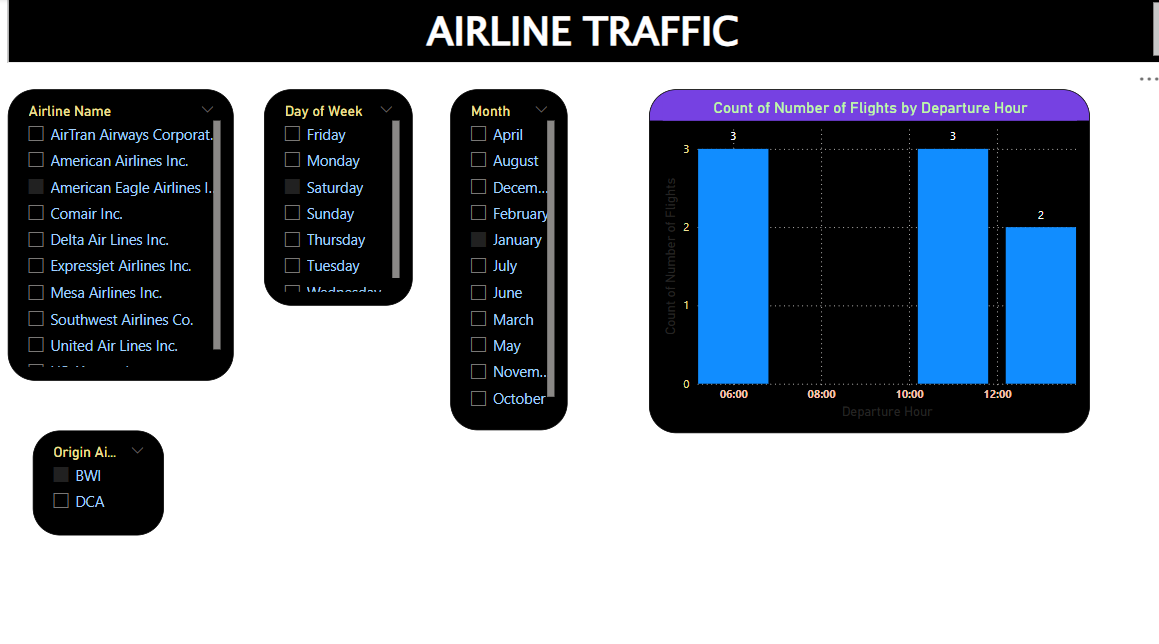

The dashboard page shown, as its layout file describes it:
{"tool":"powerbi","page":{"name":"Page 2","canvas":[1280,720],"ordinal":1},"visuals":[{"type":"textbox","box":[9.6,0,1270.7,71.4],"z":0},{"type":"slicer","fields":{"Values":["Sheet1.Airline Name"]},"box":[9.6,100.2,248.4,319.7],"z":1},{"type":"slicer","fields":{"Values":["Sheet1.Origin Airport"]},"box":[37,474.8,144.1,115.3],"z":2},{"type":"slicer","fields":{"Values":["Sheet1.Day of Week"]},"box":[290.9,100.2,163.3,237.4],"z":3},{"type":"slicer","fields":{"Values":["Sheet1.Month"]},"box":[495.4,100.2,129,374.6],"z":4},{"type":"columnChart","fields":{"Category":["Sheet1.Departure Hour"],"Y":["CountNonNull(Sheet1.Number of Flights)"]},"box":[713.6,100.2,484.4,377.4],"z":5}]}

Visuals, with their boxes in screenshot pixels (x1, y1, x2, y2), scaled from the page's 1280x720 canvas onto the 1159x644 screenshot:
textbox: [9, 0, 1158, 64]
slicer - Sheet1.Airline Name: [9, 90, 234, 376]
slicer - Sheet1.Origin Airport: [34, 425, 164, 528]
slicer - Sheet1.Day of Week: [263, 90, 411, 302]
slicer - Sheet1.Month: [449, 90, 565, 425]
columnChart - Sheet1.Departure Hour x CountNonNull(Sheet1.Number of Flights): [646, 90, 1085, 427]
